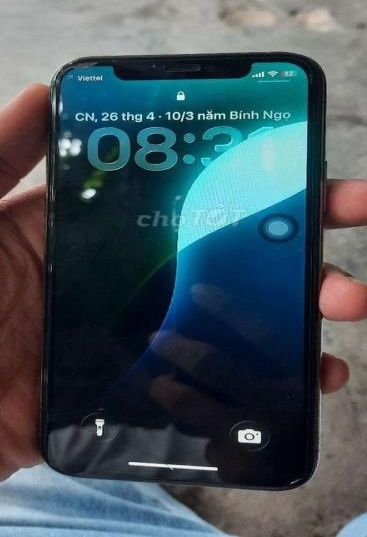scratch: (41, 53, 99, 87), (36, 178, 59, 226), (31, 354, 55, 388), (280, 471, 307, 488), (41, 255, 55, 276)
